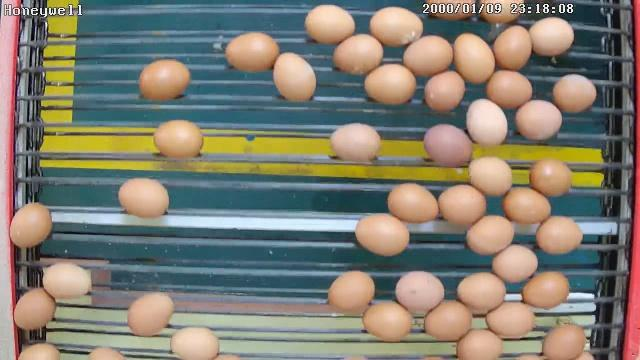egg: (136, 56, 192, 102), (224, 31, 280, 76), (355, 212, 410, 256), (332, 31, 384, 77), (272, 51, 318, 102), (364, 61, 416, 106), (370, 5, 424, 48), (423, 122, 473, 168), (326, 269, 376, 315), (118, 176, 170, 220), (153, 118, 205, 162), (394, 270, 446, 314), (422, 298, 474, 342), (402, 32, 452, 77), (331, 121, 382, 165), (514, 98, 564, 142), (388, 182, 440, 224), (128, 291, 174, 338), (436, 184, 487, 226), (453, 31, 495, 82), (464, 214, 516, 255), (361, 300, 414, 340), (7, 202, 53, 248), (466, 97, 509, 146), (456, 271, 507, 312), (304, 5, 356, 45), (42, 262, 92, 302), (485, 298, 535, 338), (422, 68, 466, 113), (13, 286, 56, 332), (552, 71, 598, 114), (467, 154, 513, 197), (536, 214, 583, 256), (502, 185, 552, 224), (491, 243, 538, 284), (492, 24, 532, 72), (520, 270, 570, 308), (528, 158, 574, 198), (170, 324, 221, 360), (486, 68, 534, 106), (530, 16, 574, 56), (542, 321, 587, 360), (456, 326, 503, 358)
